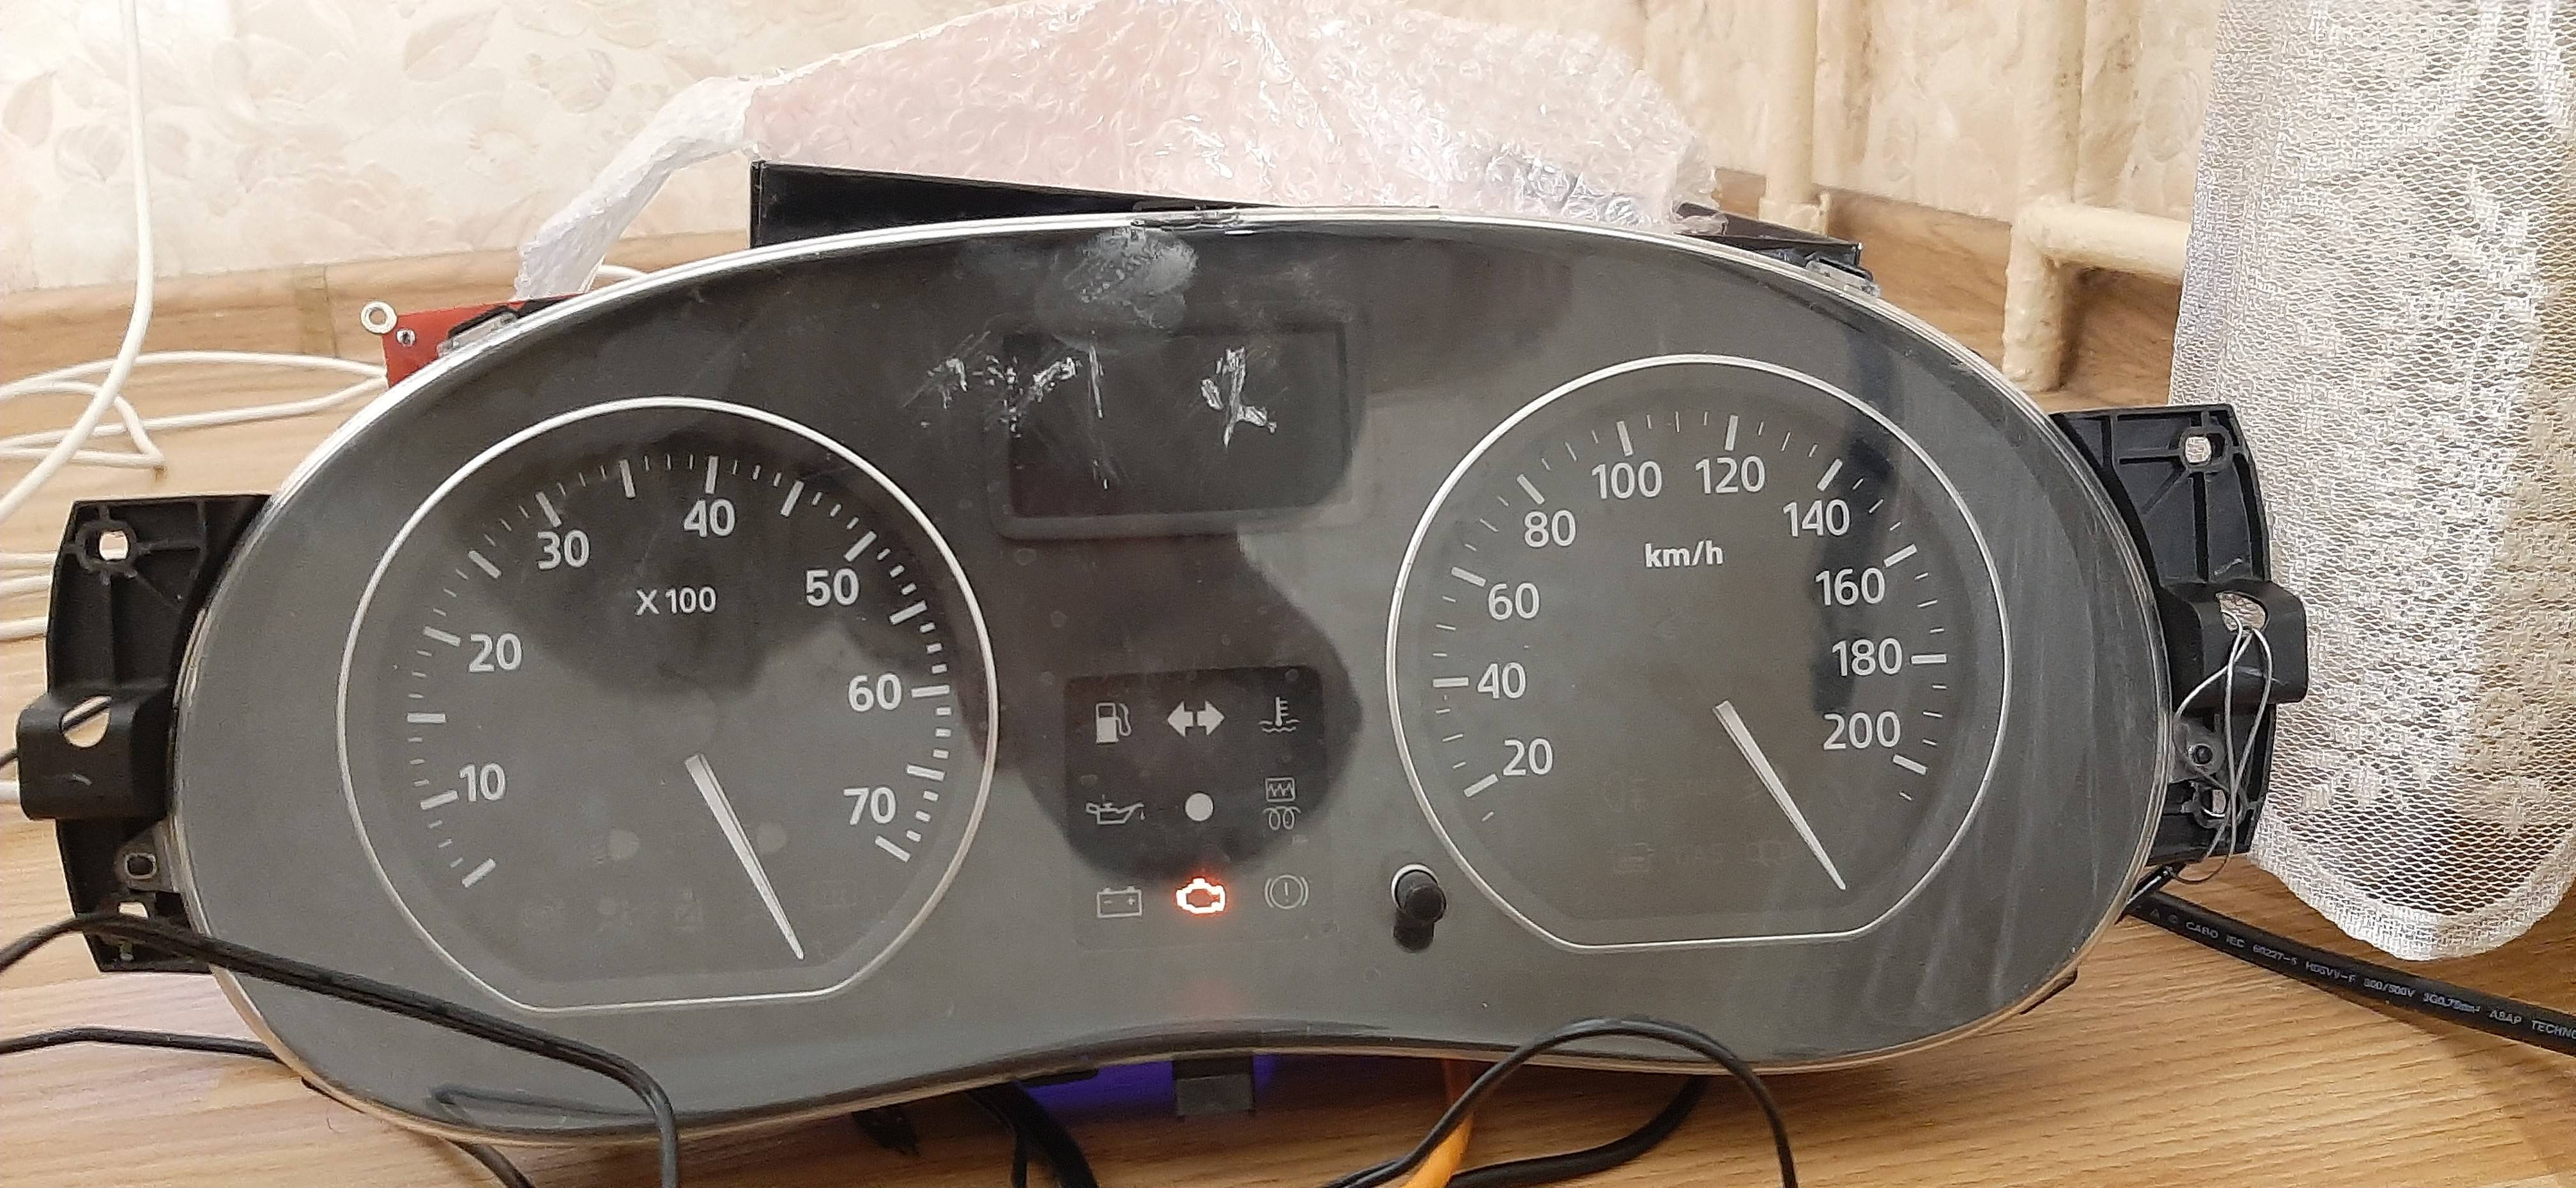engine2: (1175, 877, 1229, 917)
